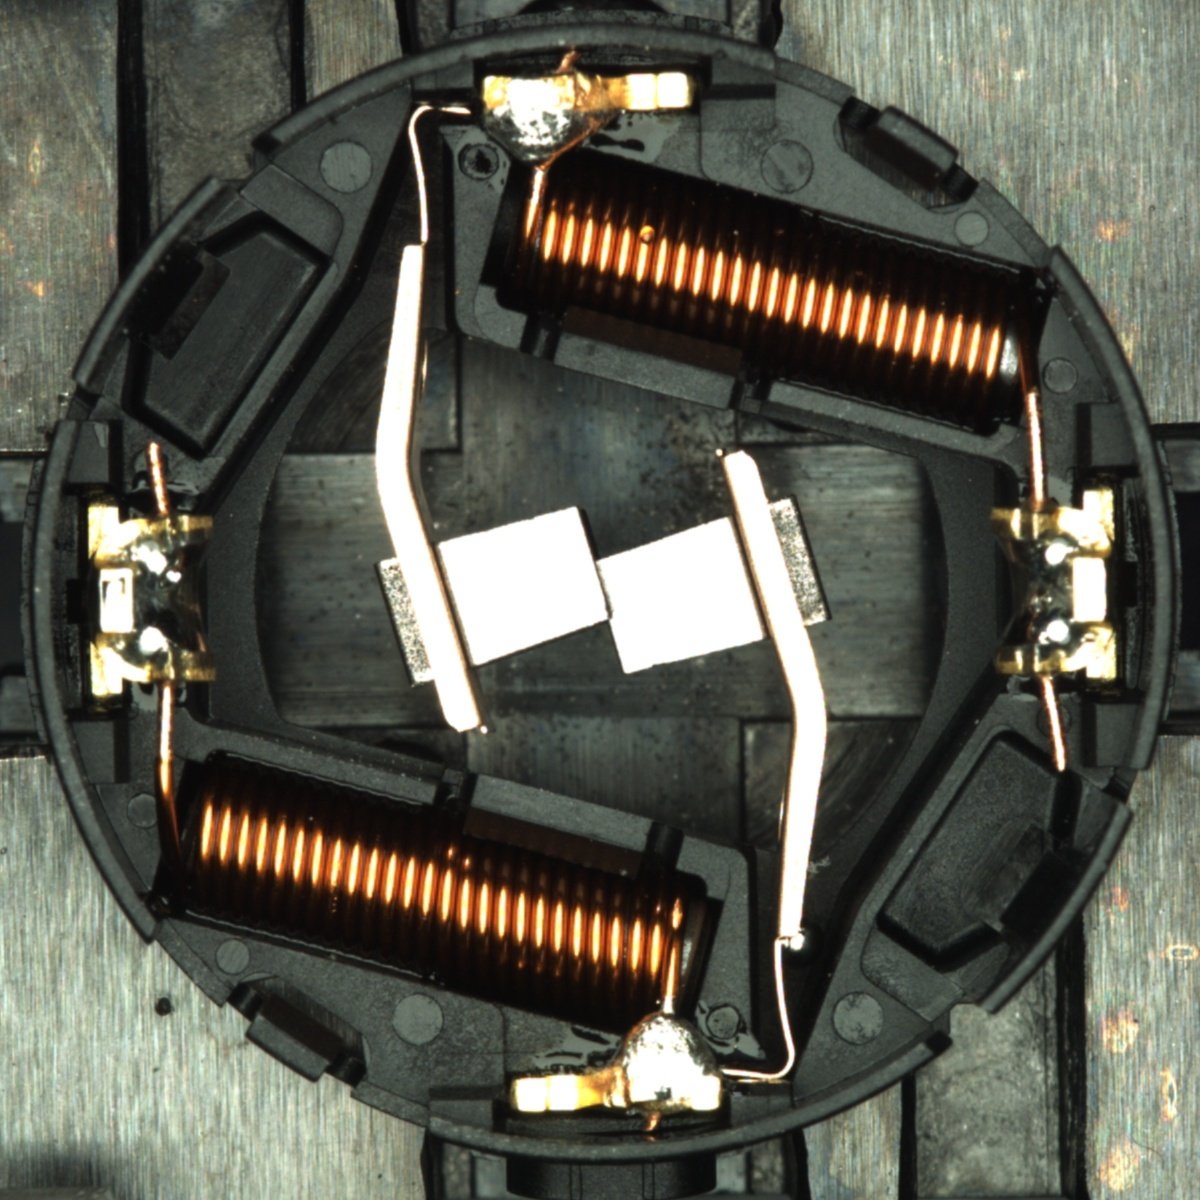1: (254, 30, 484, 254), (712, 927, 942, 1152)
2: (712, 30, 942, 254), (254, 927, 484, 1152)
3: (942, 702, 1171, 927), (25, 254, 254, 478)
4: (712, 702, 942, 927), (254, 254, 484, 478)
5: (484, 142, 712, 366), (484, 815, 712, 1040)
6: (254, 702, 484, 927), (712, 254, 942, 478)
7: (25, 702, 254, 927), (942, 254, 1171, 478)
cacbon: (397, 497, 799, 684)
chau_dien: (80, 497, 221, 700), (984, 484, 1123, 686)
hat_chi: (779, 920, 822, 967)
tay_choi: (507, 1010, 724, 1116), (480, 70, 696, 171)
thanh_de: (954, 787, 1142, 1030), (59, 165, 244, 405)
